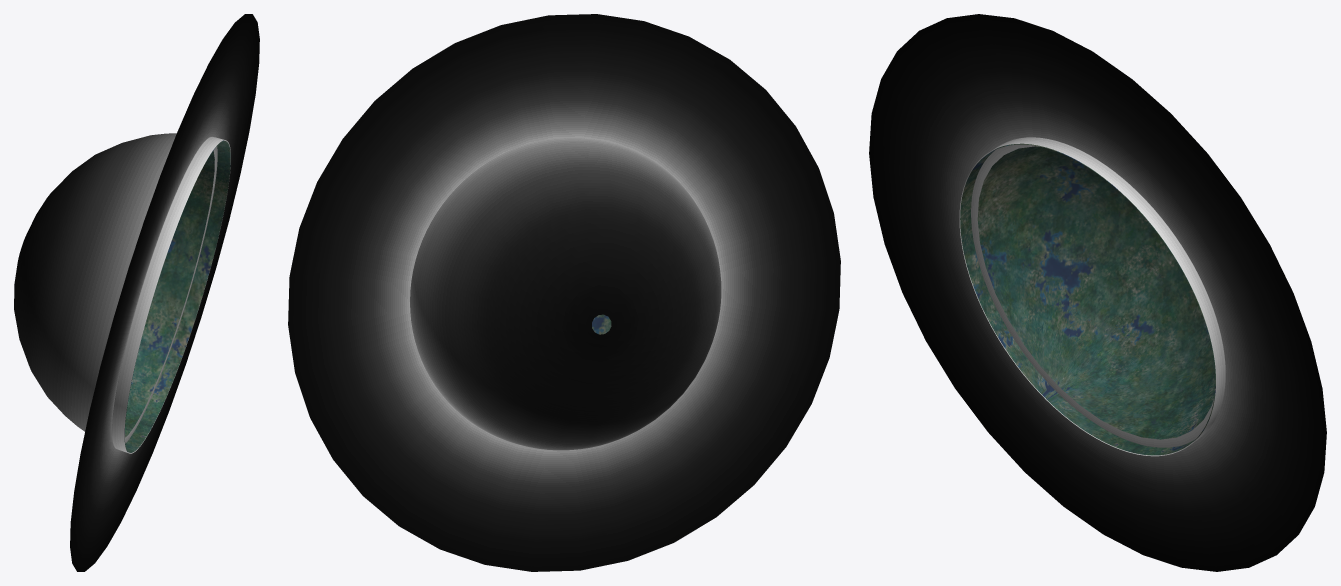
File: env_space_endor_01_pre.glb
3 renders of one model, left to right at view 1: azimuth 30°, elevation 25°; view 2: azimuth 150°, elevation 25°; view 3: azimuth 270°, elevation 25°, orthographic. The views are drawn at different scales.
Visible parts, largest first — view 1: planet_fresnel_mesh, planet_glow_mesh, planet_body_mesh; view 2: planet_glow_mesh, planet_fresnel_mesh; view 3: planet_glow_mesh, planet_body_mesh, planet_fresnel_mesh.
Part boxes in pixels (bbox=[...]): planet_fresnel_mesh: bbox=[14, 133, 230, 453]; planet_glow_mesh: bbox=[70, 14, 259, 571]; planet_body_mesh: bbox=[124, 140, 230, 452]; planet_glow_mesh: bbox=[288, 14, 840, 571]; planet_fresnel_mesh: bbox=[410, 137, 721, 450]; planet_glow_mesh: bbox=[869, 14, 1326, 571]; planet_body_mesh: bbox=[960, 143, 1215, 455]; planet_fresnel_mesh: bbox=[959, 137, 1225, 456].
Size of the model in its own units: 477 by 647 by 477.
Materials: 3 (3 with a texture image).
